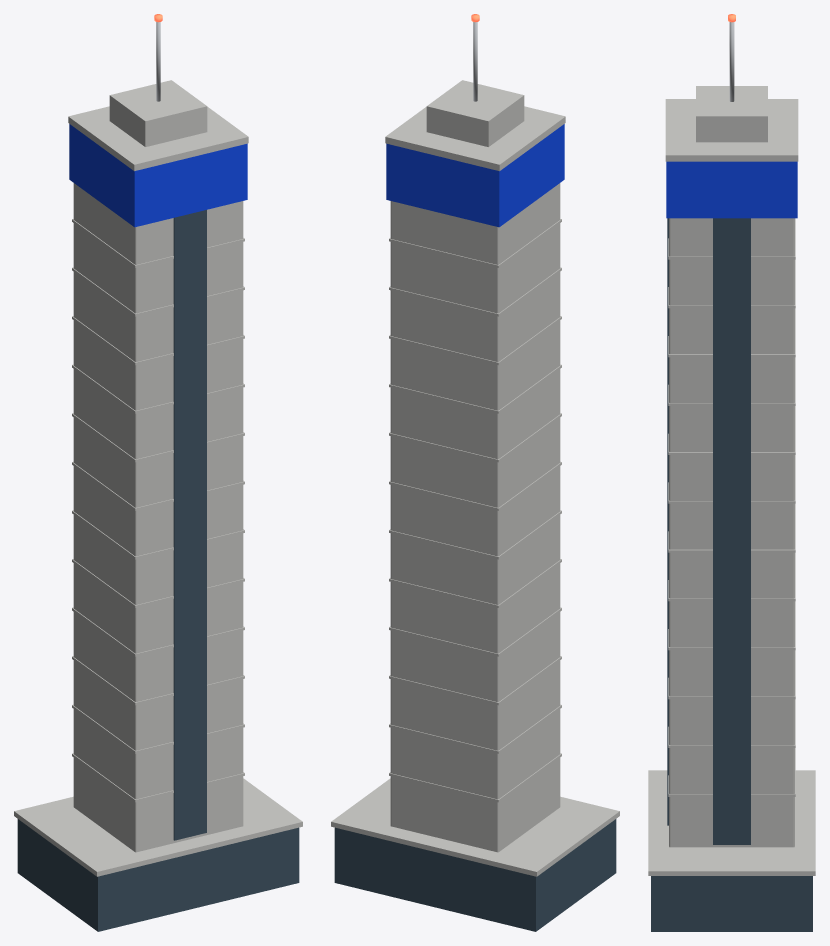
Rendered from test_tower.glb.
3 views of the same model, side by side, from view 1: azimuth 30°, elevation 25°; view 2: azimuth 150°, elevation 25°; view 3: azimuth 270°, elevation 25° (orthographic).
Visible parts, largest first — view 1: KONE test tower; view 2: KONE test tower; view 3: KONE test tower.
Boxes of the visible parts, left/top/right/bottom form: KONE test tower: left=14, top=14, right=302, bottom=931; KONE test tower: left=331, top=14, right=619, bottom=931; KONE test tower: left=648, top=14, right=815, bottom=931.
Size of the model in its own units: 26.6 by 106 by 18.6.
